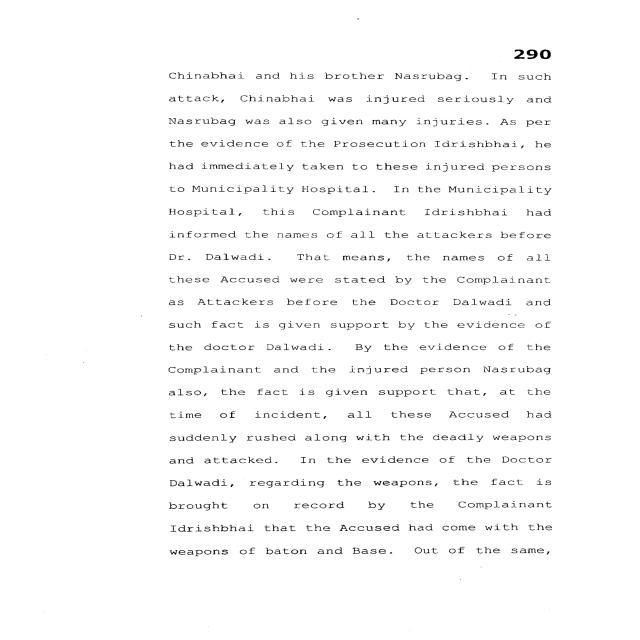page-number: (446, 0, 634, 66)
